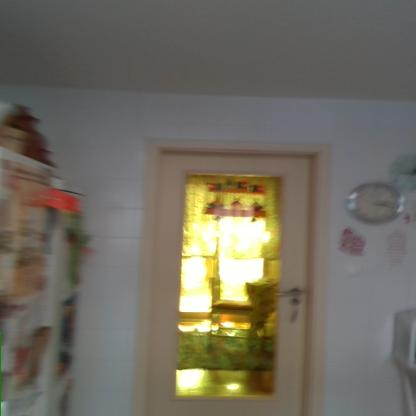closed: (132, 130, 346, 415)
